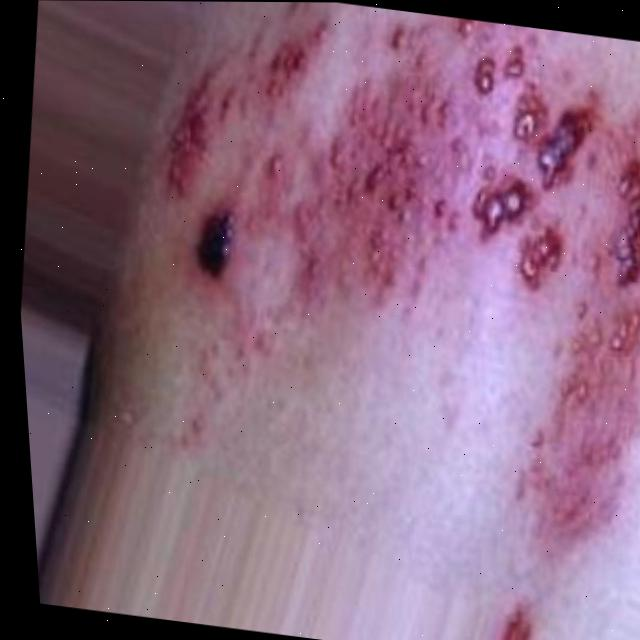Shingles: (105, 1, 640, 561)
